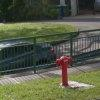a fire hydrant: (56, 55, 76, 86)
